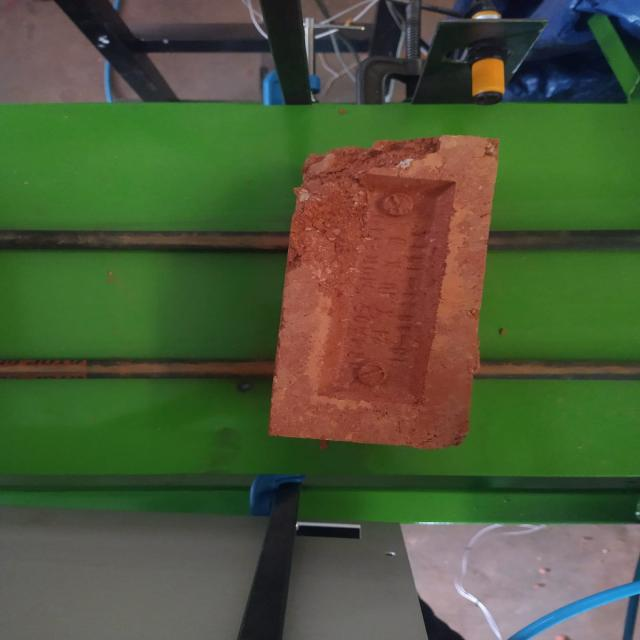bricks_ruin: (269, 132, 499, 447)
